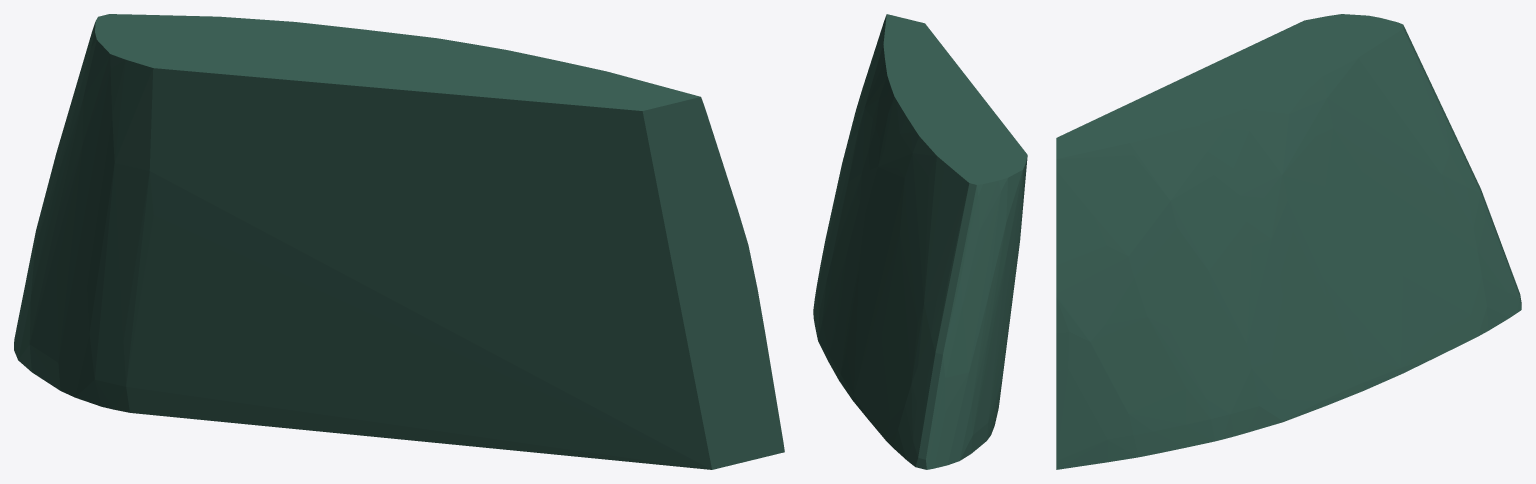
Rendered from left-shoulder-pitch-0_part_165.obj.
The picture shows the model from 3 angles, left to right: view 1: azimuth 30°, elevation 25°; view 2: azimuth 150°, elevation 25°; view 3: azimuth 270°, elevation 25°; orthographic projection. The views are drawn at different scales.
Size of the model in its own units: 0.0204 by 0.0151 by 0.0228.
